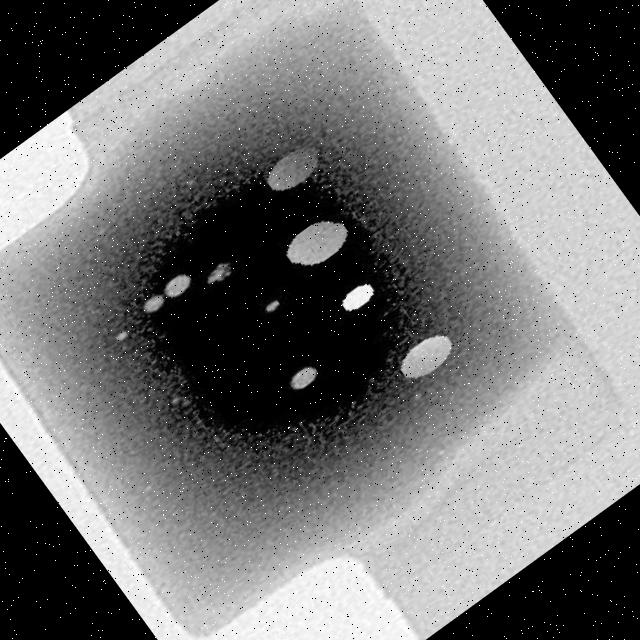chip: (0, 0, 622, 640)
void: (286, 222, 346, 262), (399, 333, 451, 377), (266, 145, 316, 189), (342, 283, 373, 310), (163, 273, 189, 297), (289, 366, 316, 389), (206, 262, 230, 283), (142, 294, 163, 313), (264, 299, 278, 311), (114, 330, 127, 340)
